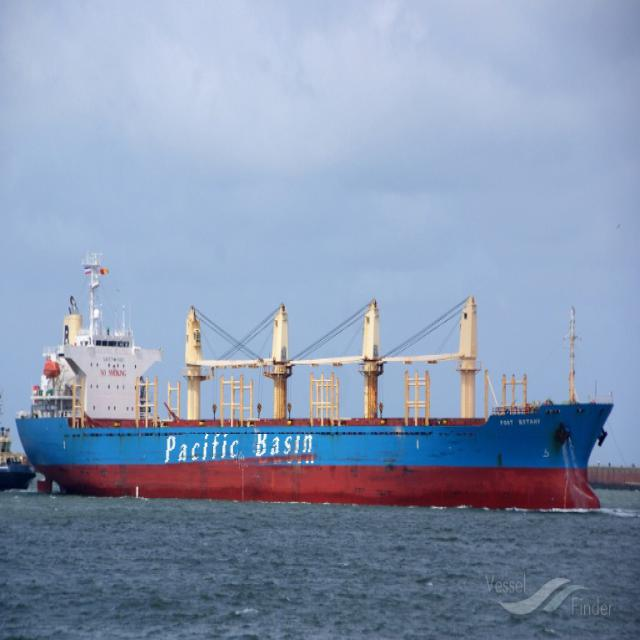OCR: (162, 434, 320, 472)
